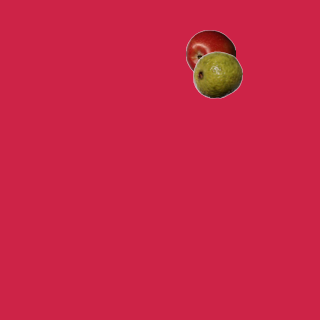Apple Braeburn: (185, 29, 235, 79)
Guava: (192, 49, 242, 99)
